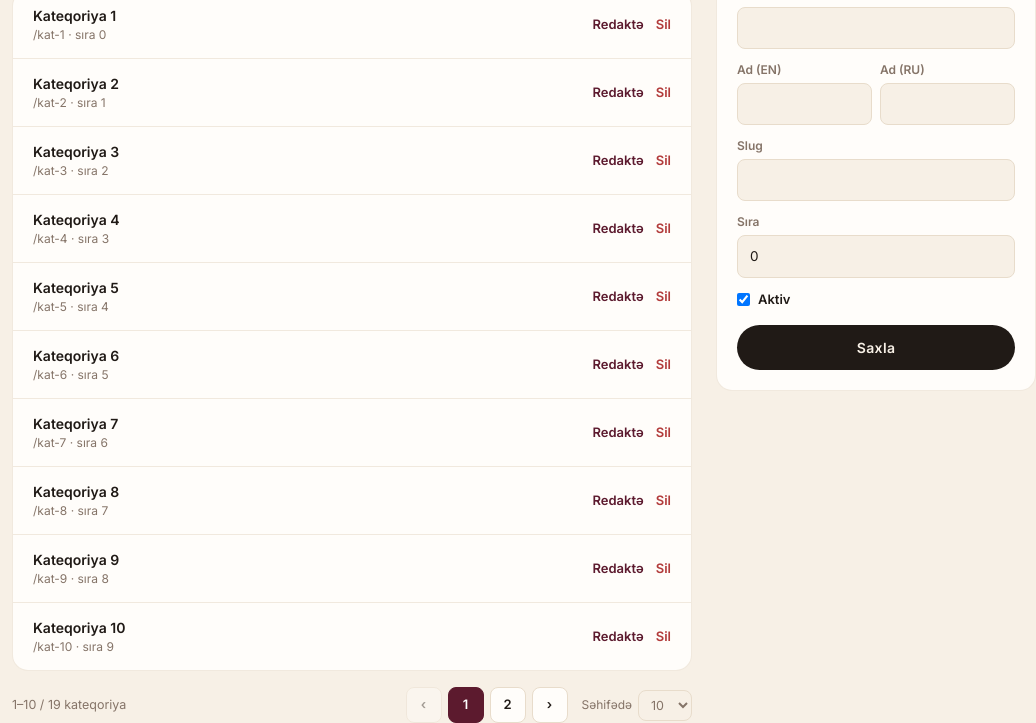
CategoriesAdmin: kateqoriya siyahısı səhifələnir › 19 kateqoriya 10-10 göstərilir
The image size is (1036, 723).
(page scrolled)
expect the text "Kateqoriya 1" is shown: met, box [33, 5, 116, 26]
expect the text with test id "pagination-summary" reads "1–10 / 19 kateqoriya": met, box [12, 696, 126, 714]
Click the button named "Səhifə 2". click: (508, 705)
box: [490, 687, 526, 722]
(page scrolled)
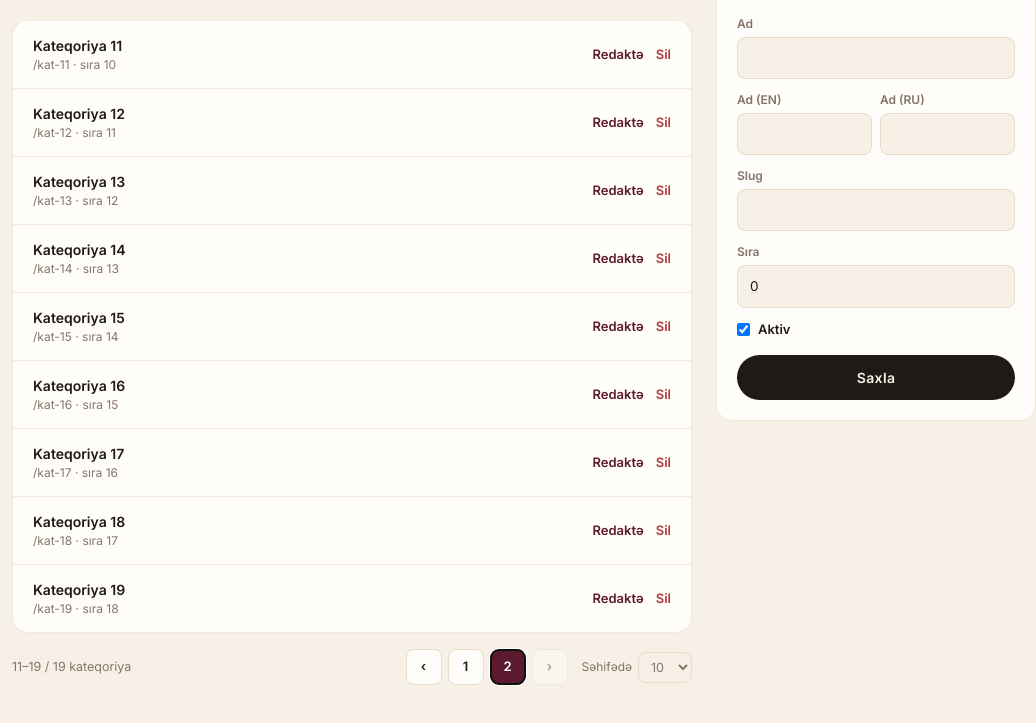
expect the text "Kateqoriya 19" is shown: met, box [33, 579, 125, 600]
expect the text with test id "pagination-summary" shows "11–19 / 19": met, box [12, 658, 131, 676]
